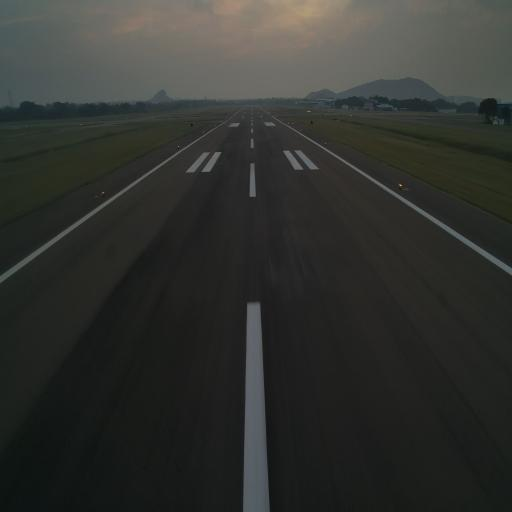on: (398, 181, 404, 189), (101, 187, 105, 197)
